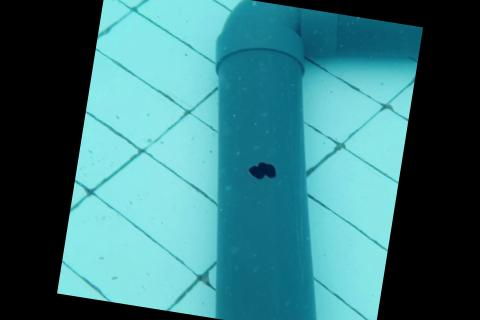kebocoran: (245, 156, 280, 181)
